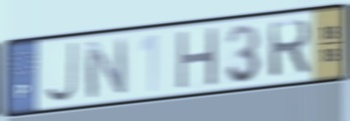1: (140, 33, 159, 94)
3: (223, 21, 264, 86)
H: (175, 24, 221, 93)
J: (42, 40, 79, 106)
N: (82, 35, 130, 101)
R: (267, 16, 313, 80)
